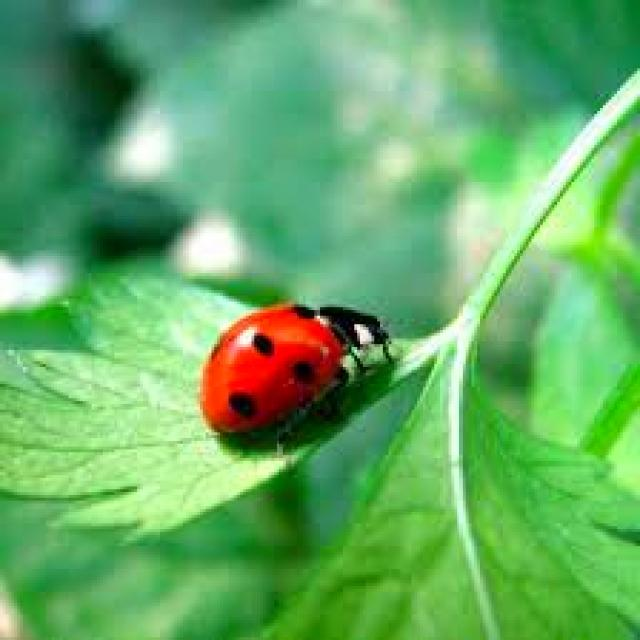ladybug: (203, 304, 389, 444)
